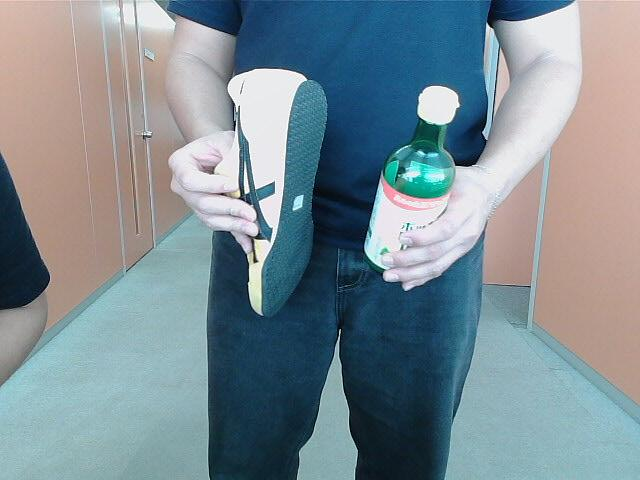Lemon_sapporo: (362, 85, 470, 279)
Shoes: (217, 58, 322, 329)
